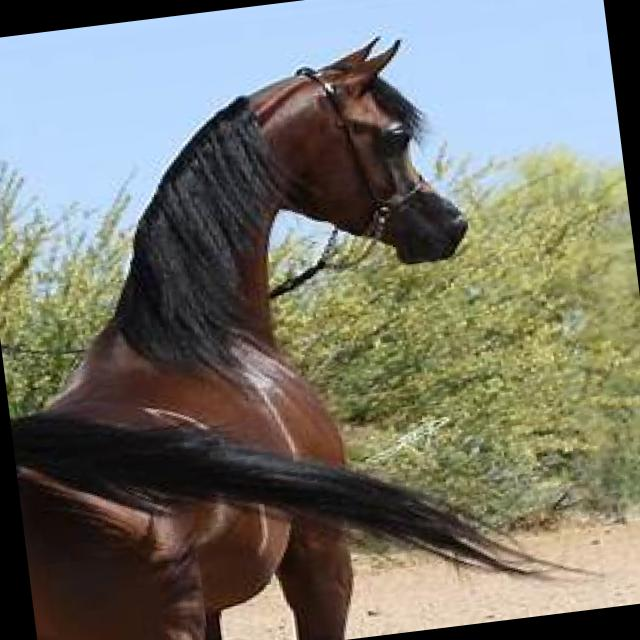animal: (0, 14, 605, 640)
